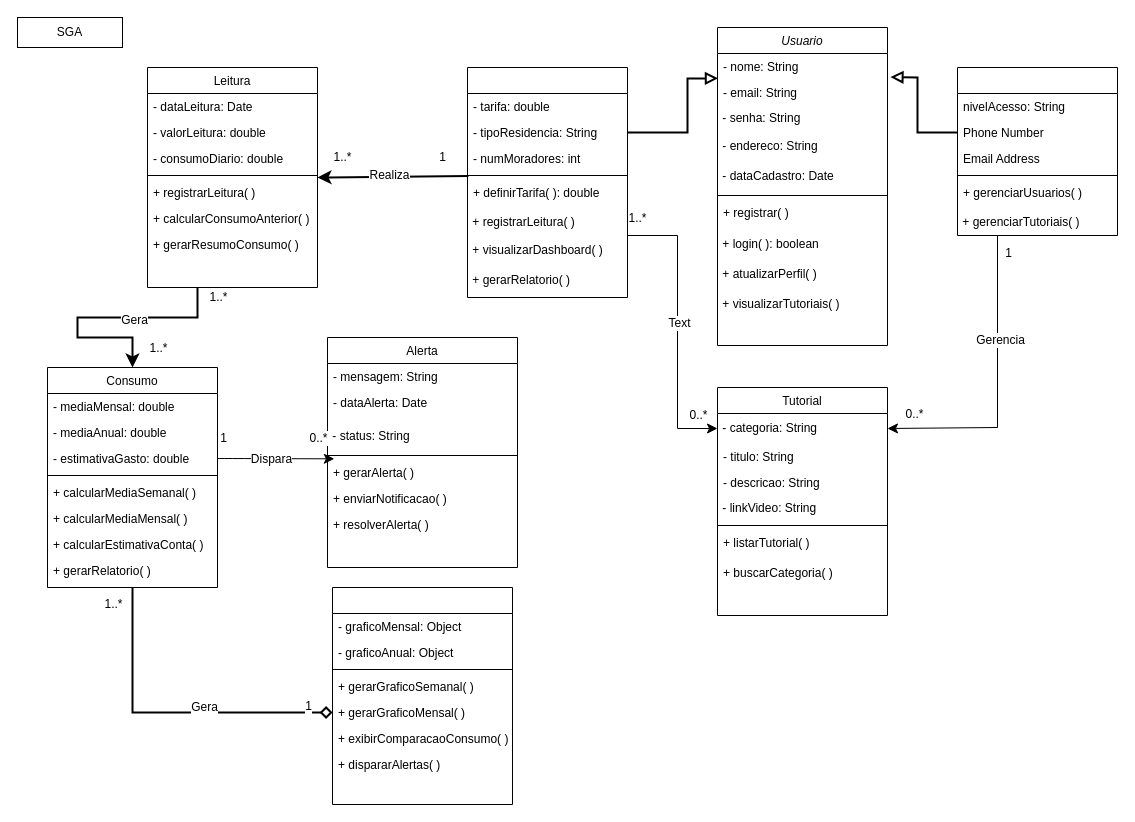
Image size: 1135x822. Some labels were removed from this diagram. Each missing label, with the box of its shape:
Administrador: (956, 66, 1118, 236)
Cliente: (466, 66, 628, 298)
Dashboard: (332, 586, 512, 804)
